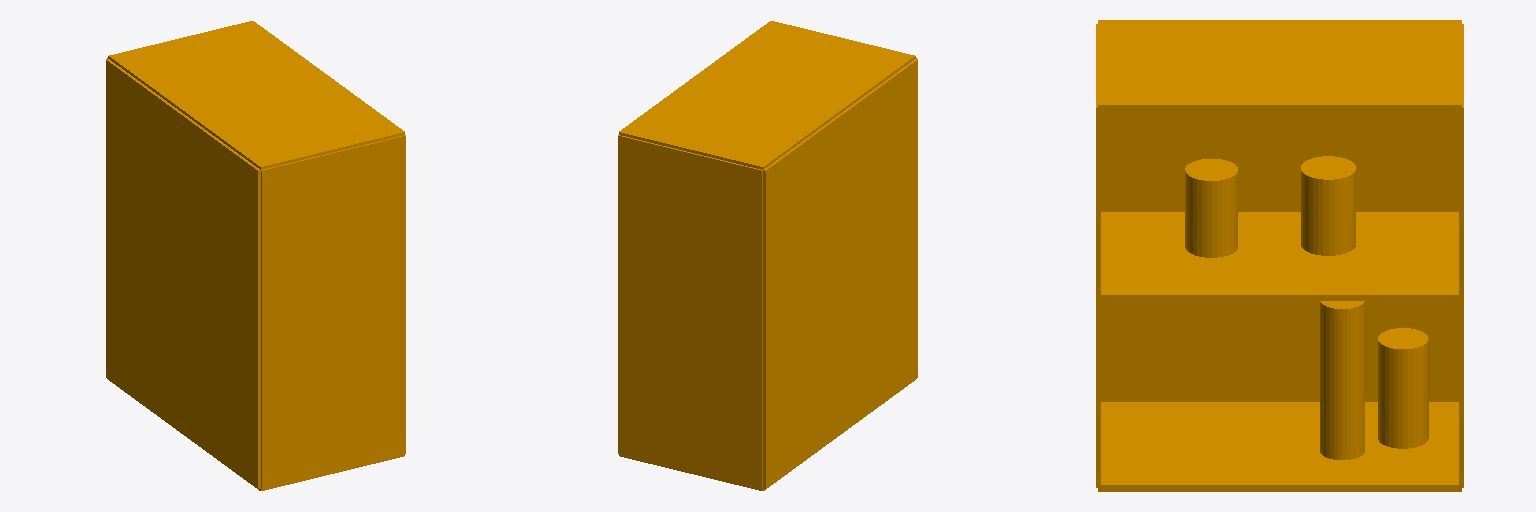
The robot description file, URDF, robot "syn_can_cabinet_1254":
<?xml version="1.0" ?>
<robot name="syn_can_cabinet_1254">
    <link concave="yes" name="base_link">
        <inertial>
            <origin rpy="0 0 0" xyz="0 0 0"/>
            <mass value="0.0"/>
            <inertia ixx="1e-08" ixy="0" ixz="0" iyy="1e-08" iyz="0" izz="1e-08"/>
        </inertial>
        <visual>
            <origin xyz="0 0 0" rpy="0 0 0" />
            <geometry>
                <mesh filename="syn_can_cabinet_1254.obj" scale="1.000000 1.000000 1.000000"/>
            </geometry>         
        </visual>

        <collision concave="yes">
            <origin xyz="0 0 0" rpy="0 0 0"/>
            <geometry>
                <mesh filename="syn_can_cabinet_1254.obj" scale="1.000000 1.000000 1.000000"/>
            </geometry>
        </collision>
    </link>
</robot>
    

--- What the picture shows (computed from the rendered views, not written in the file) ---
3 views of the same robot in one strip: view 1: azimuth 30°, elevation 25°; view 2: azimuth 150°, elevation 25°; view 3: azimuth 270°, elevation 25° (orthographic).
Robot: syn_can_cabinet_1254 — 1 links, 0 joints (none); root link base_link; default pose: every joint at zero.
Links seen in each view (by area): view 1: base_link; view 2: base_link; view 3: base_link.
Link boxes in pixels (left/top/right/bottom): base_link: left=106, top=21, right=405, bottom=490; base_link: left=618, top=21, right=917, bottom=490; base_link: left=1096, top=20, right=1463, bottom=491.
Bounding box of the posed robot: 0.1814 × 0.3293 × 0.3817 m (x, y, z).
Meshes: 1 distinct files referenced, 1 mesh visuals loaded (1 OBJ).
